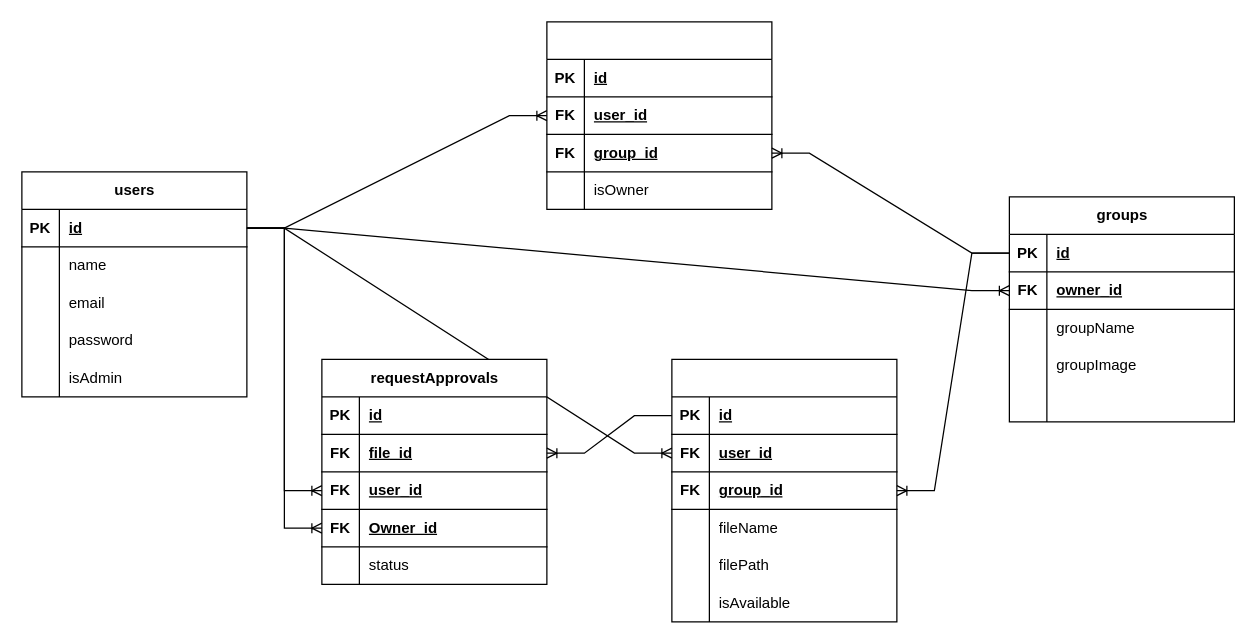
Image size: 1256x644. Some labels were removed from this diagram. Here are the shapes that lost their labels. From the top down, the box of each, then its label:
(546, 21, 772, 209): groupMembers
(671, 358, 897, 622): files
